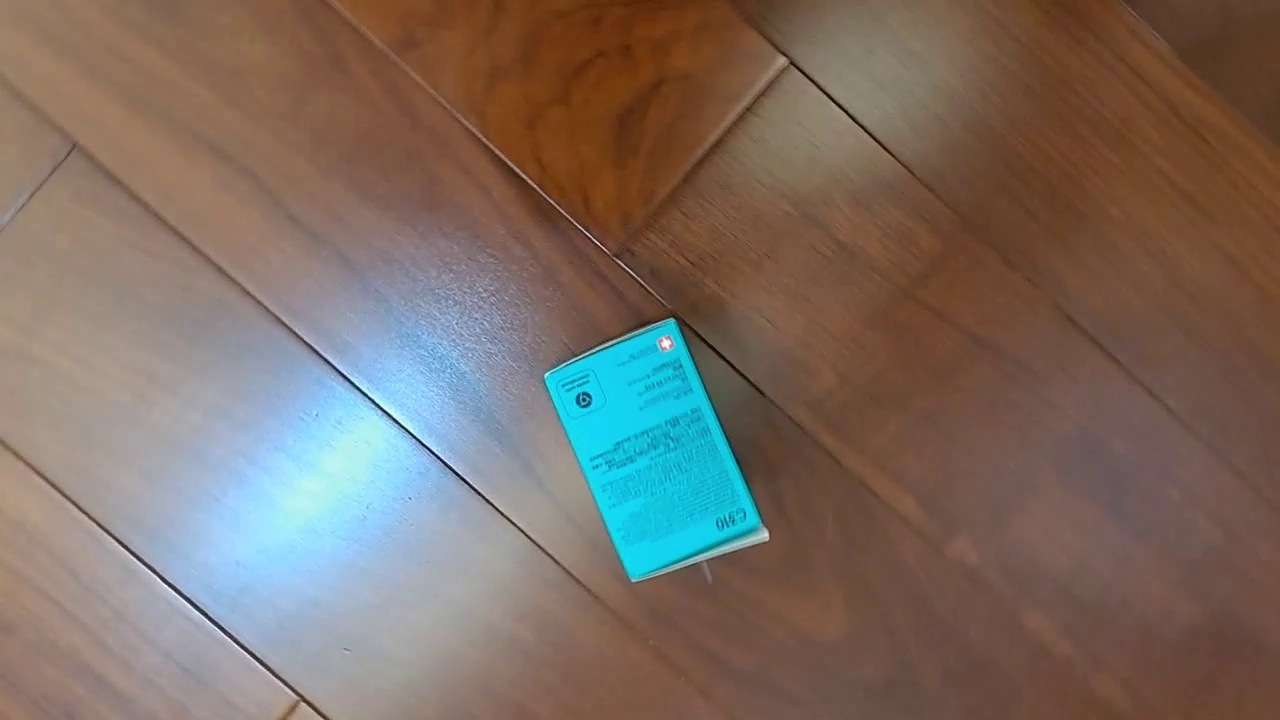webcam: (542, 316, 771, 584)
